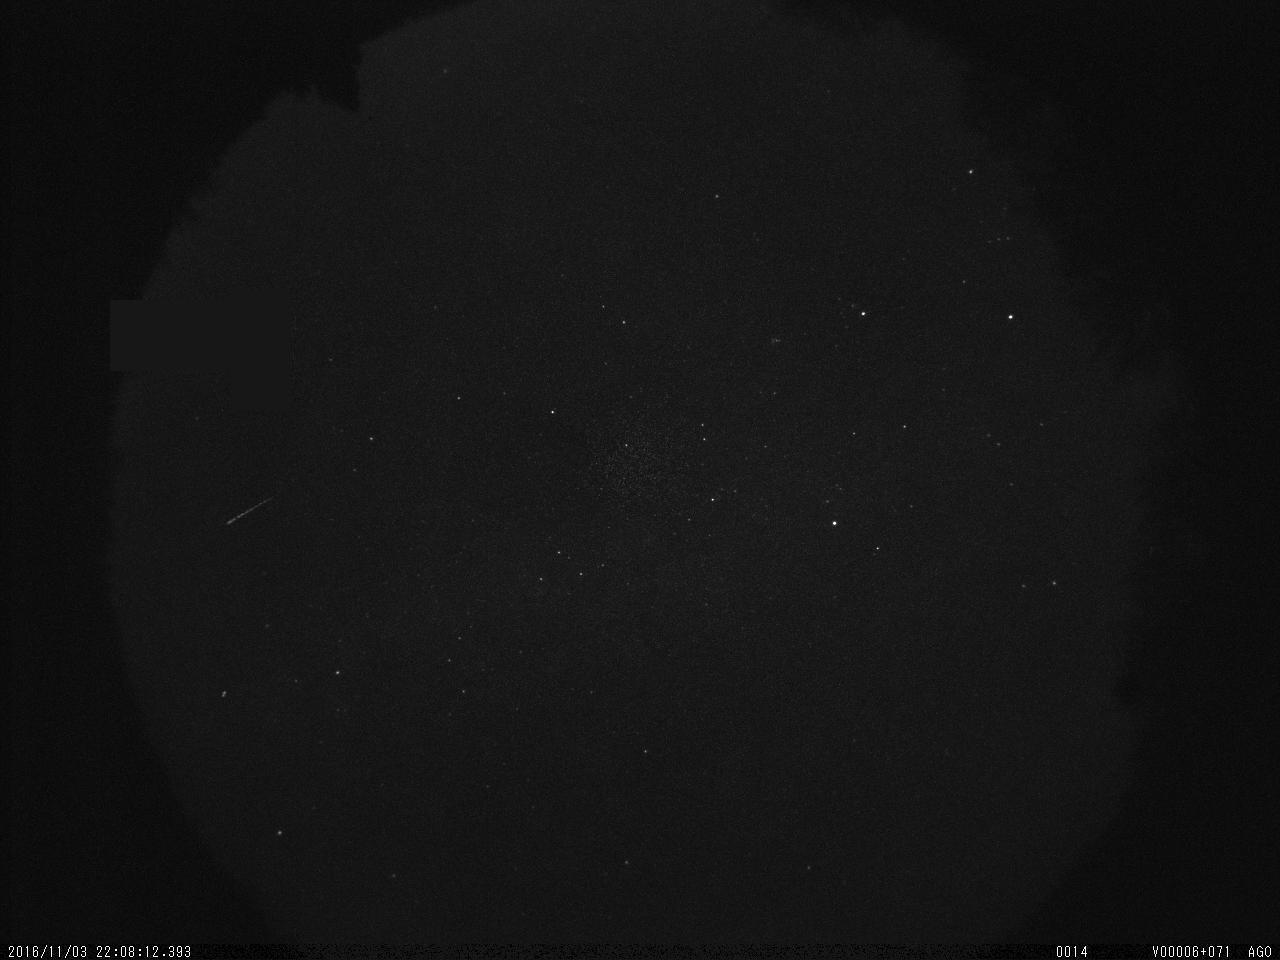meteor: (198, 488, 308, 532)
